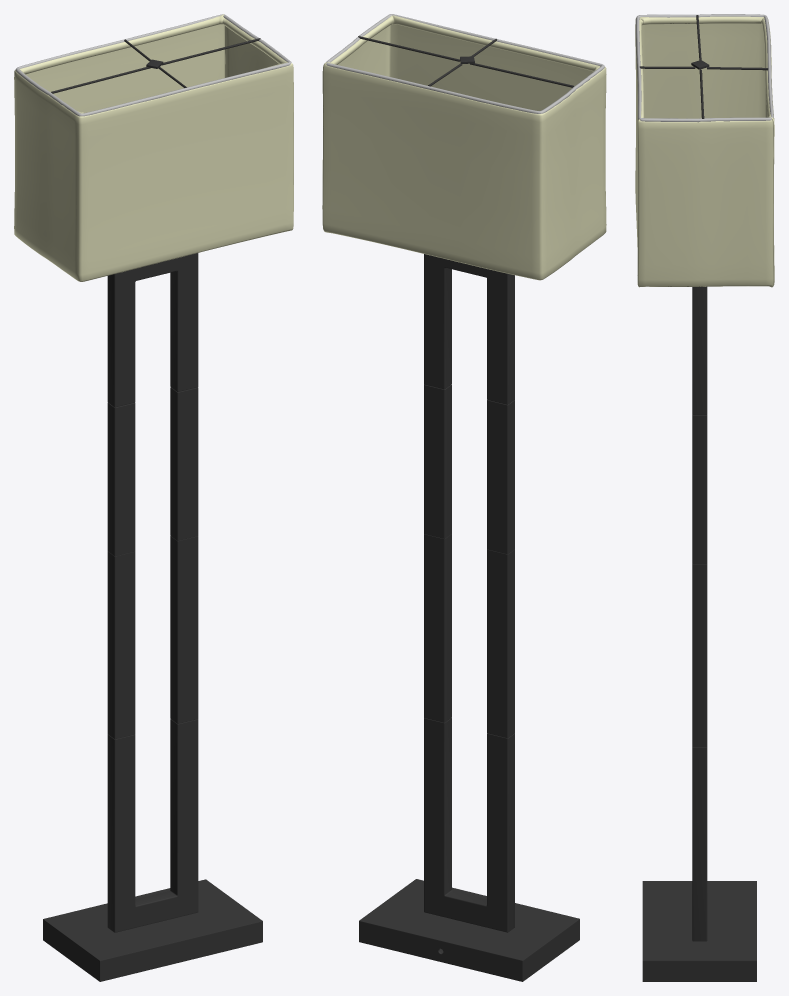
Rendered from light.fbx.
3 views of the same model, side by side, from view 1: azimuth 30°, elevation 25°; view 2: azimuth 150°, elevation 25°; view 3: azimuth 270°, elevation 25° (orthographic).
Parts seen in each view (by area): view 1: light04, light02, light03, light01; view 2: light04, light02, light03, light01; view 3: light04, light02, light03, light01.
Part boxes in pixels (left/top/right/bottom): light04: left=14, top=14, right=293, bottom=281; light02: left=51, top=38, right=260, bottom=932; light03: left=43, top=879, right=262, bottom=981; light01: left=15, top=14, right=291, bottom=116; light04: left=322, top=15, right=606, bottom=280; light02: left=358, top=36, right=573, bottom=932; light03: left=359, top=879, right=579, bottom=981; light01: left=326, top=14, right=604, bottom=113; light04: left=635, top=16, right=774, bottom=287; light02: left=639, top=15, right=768, bottom=941; light03: left=642, top=881, right=756, bottom=981; light01: left=636, top=14, right=773, bottom=122.
Bounding box in the file's own units: 30.75 × 118 × 16.92.
